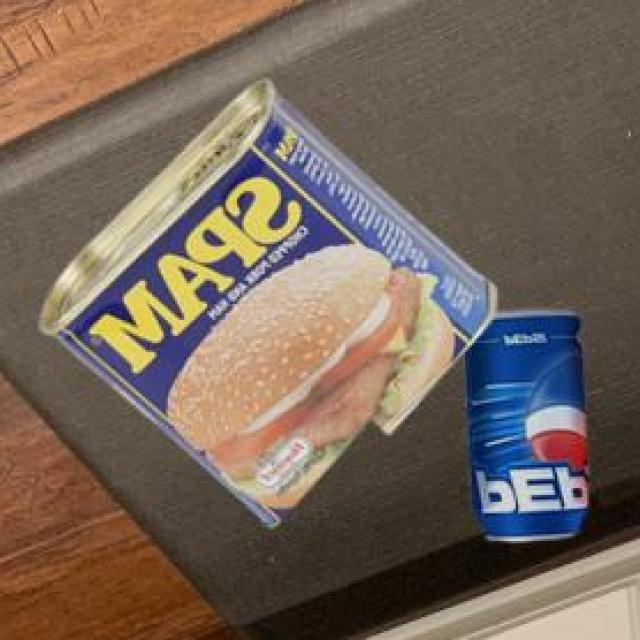logam: (38, 84, 494, 531), (462, 314, 586, 544)
